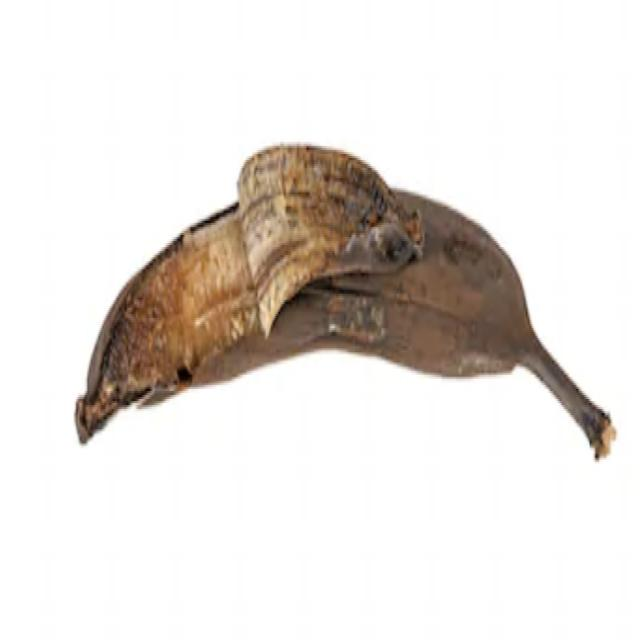rotten-banana: (73, 138, 575, 456)
